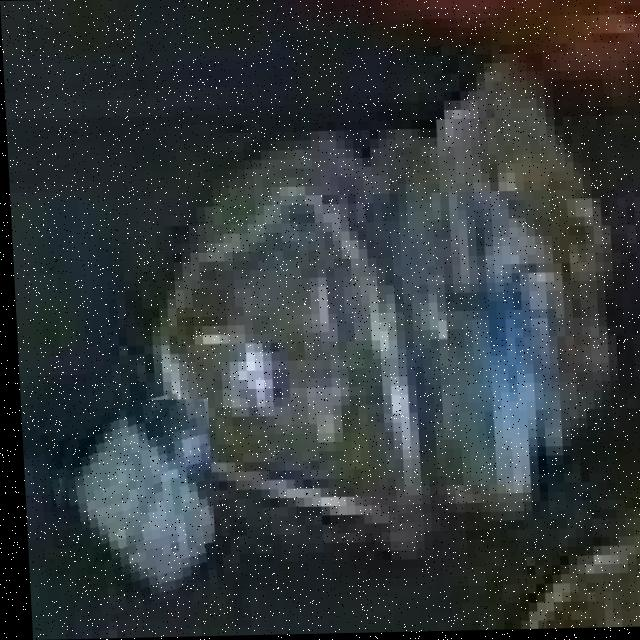litter: (37, 399, 212, 623)
